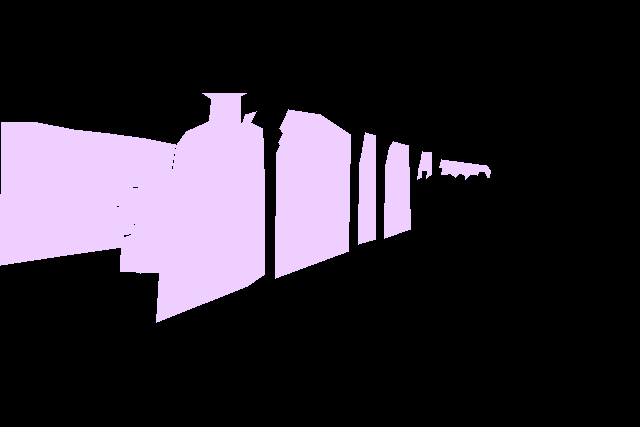Train: (117, 93, 491, 323), (0, 122, 183, 266)
